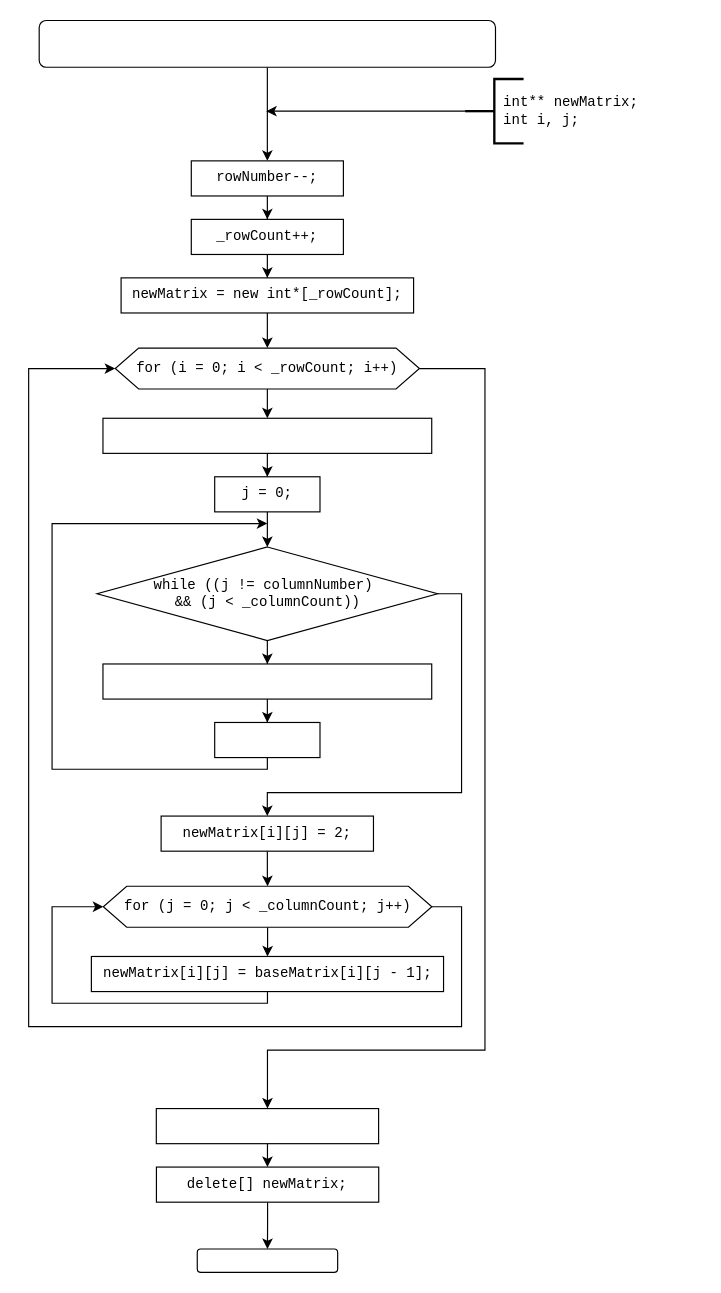
Image size: 721x1293. Some labels were removed from this diagram. Each missing label, with the centre of its shape:
"baseMatrix = newMatrix;" goes at (267,1125).
"j++;" goes at (267,739).
"newMatrix[i] = new int[_columnCount];" goes at (267,435).
"newMatrix[i][j] = baseMatrix[i][j];" goes at (267,681).
"void AddNewColumn(int**& baseMatrix, int rowNumber)" goes at (266,43).
